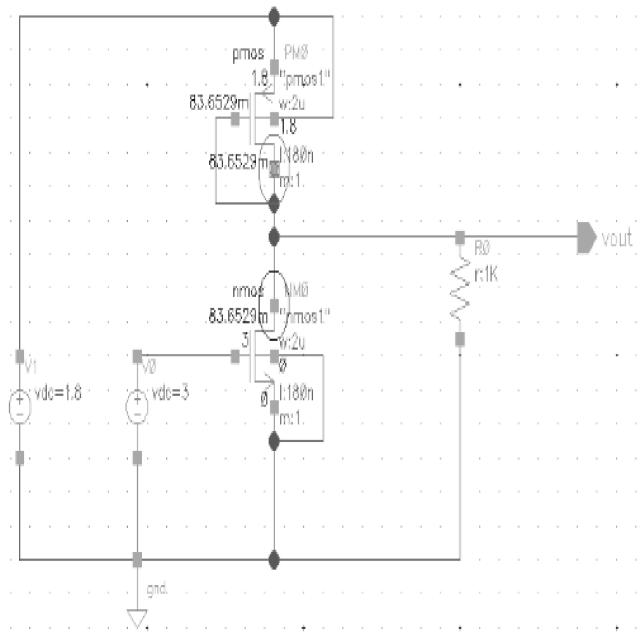gnd: (128, 547, 150, 633)
nmos: (230, 300, 280, 418)
pmos: (231, 61, 281, 175)
res: (447, 227, 472, 350)
vdc: (2, 348, 35, 478), (120, 347, 152, 469)
